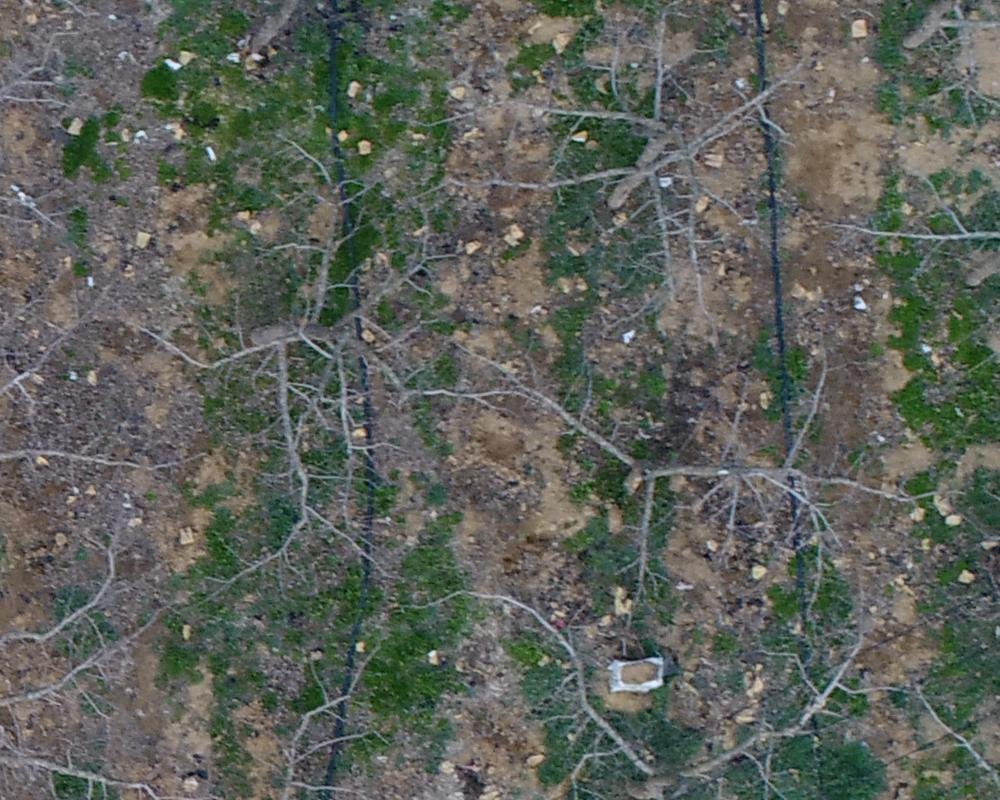apple: (159, 141, 496, 578), (458, 339, 911, 628), (456, 10, 820, 311), (467, 590, 845, 790), (10, 246, 169, 517)
